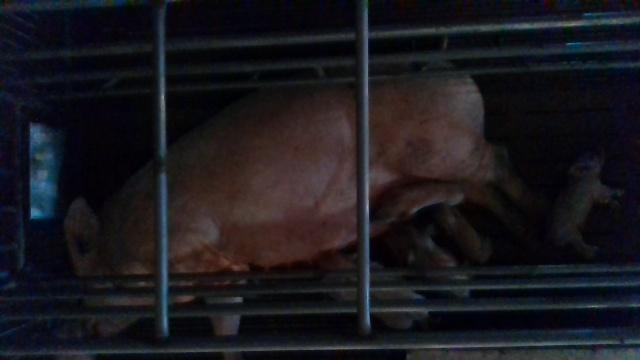piglet: (550, 142, 622, 255), (320, 252, 432, 322), (385, 219, 469, 299), (430, 202, 491, 261)
sow-sleep-lactate: (62, 63, 542, 360)
